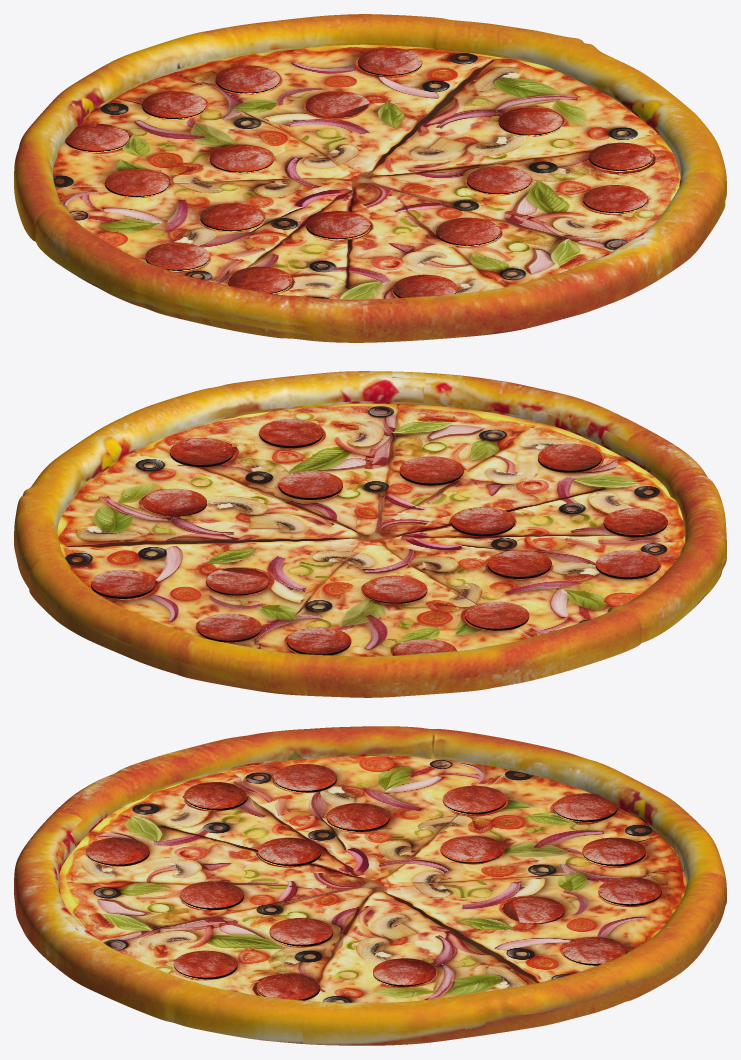
Rendered from pizza.glb.
3 views of the same model, one above another, from view 1: azimuth 30°, elevation 25°; view 2: azimuth 150°, elevation 25°; view 3: azimuth 270°, elevation 25° (orthographic).
Parts seen in each view (by area): view 1: Circle.001_3, Circle_2, Cylinder_4, Cylinder.002_6, Cylinder.005_9, Cylinder.009_13, Cylinder.001_5, Cylinder.003_7, Cylinder.011_15, Cylinder.004_8, Cylinder.013_17, Cylinder.014_18 (+7 smaller); view 2: Circle.001_3, Circle_2, Cylinder.001_5, Cylinder.008_12, Cylinder.007_11, Cylinder.009_13, Cylinder.016_20, Cylinder.002_6, Cylinder_4, Cylinder.003_7, Cylinder.006_10, Cylinder.005_9 (+7 smaller); view 3: Circle.001_3, Circle_2, Cylinder.009_13, Cylinder.008_12, Cylinder.002_6, Cylinder.005_9, Cylinder.001_5, Cylinder.013_17, Cylinder_4, Cylinder.006_10, Cylinder.007_11, Cylinder.011_15 (+7 smaller).
Part boxes in pixels (box(x1,y1,x2,y2)): Circle.001_3: box(53, 44, 680, 299); Circle_2: box(14, 14, 726, 342); Cylinder_4: box(467, 166, 531, 195); Cylinder.002_6: box(583, 185, 647, 214); Cylinder.005_9: box(200, 203, 264, 232); Cylinder.009_13: box(306, 211, 370, 240); Cylinder.001_5: box(436, 217, 500, 246); Cylinder.003_7: box(589, 142, 653, 171); Cylinder.011_15: box(105, 169, 169, 198); Cylinder.004_8: box(498, 107, 562, 136); Cylinder.013_17: box(142, 91, 206, 119); Cylinder.014_18: box(215, 65, 279, 94); Circle.001_3: box(57, 403, 685, 656); Circle_2: box(14, 371, 726, 697); Cylinder.001_5: box(399, 456, 463, 485); Cylinder.008_12: box(538, 443, 601, 472); Cylinder.007_11: box(603, 508, 667, 537); Cylinder.009_13: box(451, 507, 515, 536); Cylinder.016_20: box(91, 569, 155, 598); Cylinder.002_6: box(259, 419, 323, 448); Cylinder_4: box(278, 471, 342, 499); Cylinder.003_7: box(170, 438, 234, 467); Cylinder.006_10: box(596, 550, 659, 579); Cylinder.005_9: box(487, 550, 551, 578); Circle.001_3: box(59, 756, 686, 1002); Circle_2: box(14, 726, 726, 1045); Cylinder.009_13: box(257, 837, 321, 866); Cylinder.008_12: box(86, 837, 149, 866); Cylinder.002_6: box(173, 950, 237, 979); Cylinder.005_9: box(326, 803, 389, 832); Cylinder.001_5: box(180, 881, 243, 910); Cylinder.013_17: box(582, 837, 645, 866); Cylinder_4: box(269, 918, 333, 946); Cylinder.006_10: box(273, 764, 336, 792); Cylinder.007_11: box(184, 782, 247, 810); Cylinder.011_15: box(442, 785, 506, 814).
Bounding box in the file's own units: 0.8254 × 0.0445 × 0.8418.
2 materials, 2 textured.
